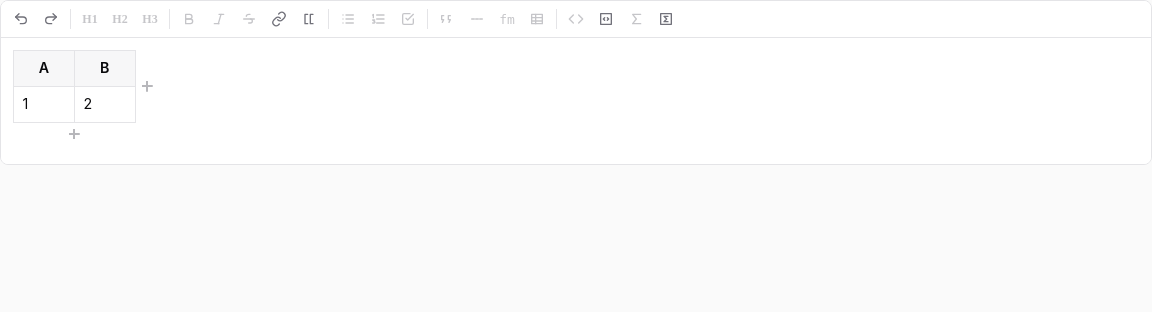
Scenario: a long-press on a cell opens the structural menu (touch)
The image size is (1152, 312).
Press the mouse on the cell "1": (44, 104) [14, 86, 74, 122]
Wait 500 ms
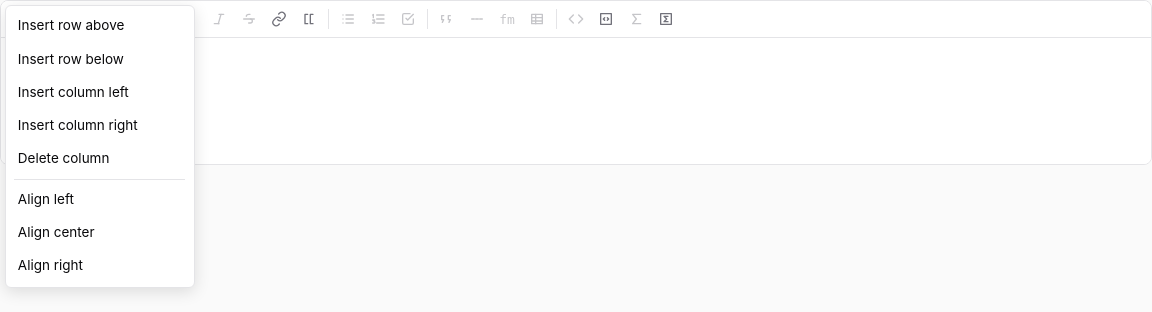
Now the element with class "cm-inplace-menu-panel" is shown, box [5, 5, 194, 288]
Now the element with class "cm-inplace-menu-panel" shows "Insert row above", box [10, 10, 190, 43]
